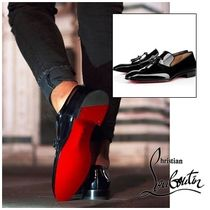shoe: (53, 81, 111, 204), (125, 50, 197, 86), (77, 160, 121, 203), (113, 45, 172, 75)
